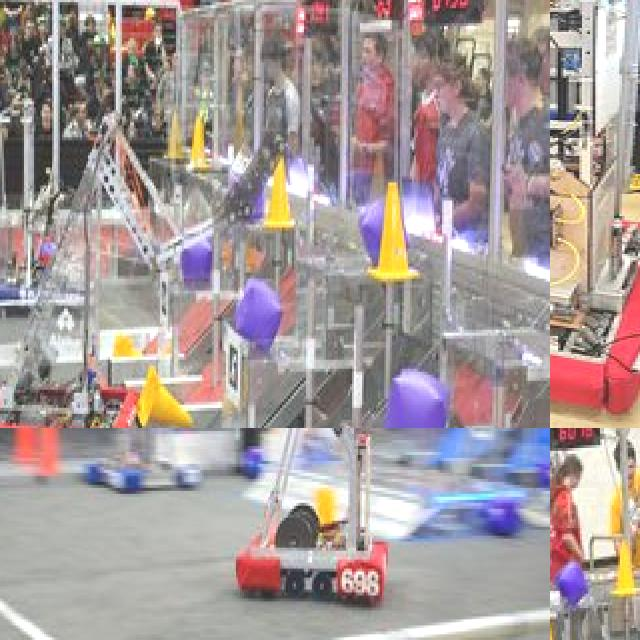FRC-Robots: (0, 110, 305, 428), (114, 428, 418, 609), (550, 0, 640, 428), (0, 177, 106, 323), (568, 516, 640, 640)
